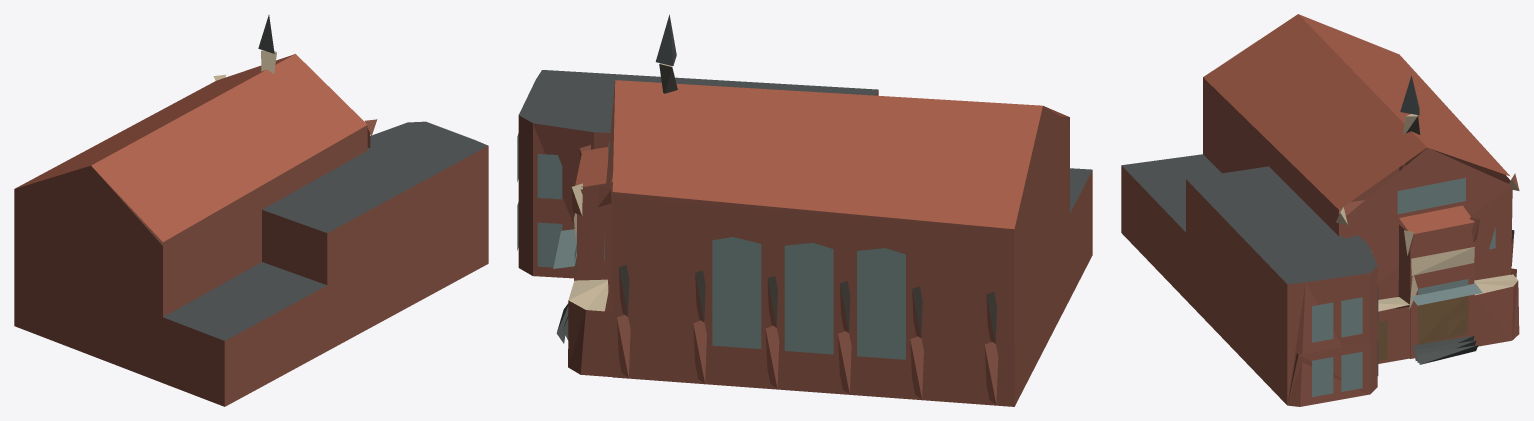
The model's file is oosterparkkerk.lod2.glb.
3 views of the same model, side by side, from view 1: azimuth 30°, elevation 25°; view 2: azimuth 150°, elevation 25°; view 3: azimuth 270°, elevation 25° (orthographic). The views are drawn at different scales.
Parts seen in each view (by area): view 1: lod2; view 2: lod2; view 3: lod2.
Part boxes in pixels (box(x1,y1,x2,y2)): lod2: box(14, 15, 488, 406); lod2: box(517, 14, 1092, 406); lod2: box(1121, 14, 1519, 406).
Size of the model in its own units: 28.82 by 15.93 by 22.92.
